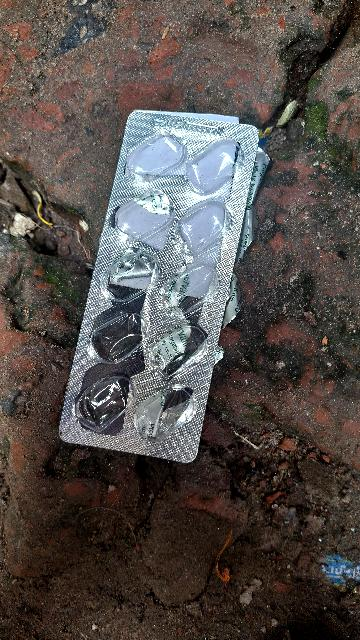medicine: (56, 107, 261, 461)
